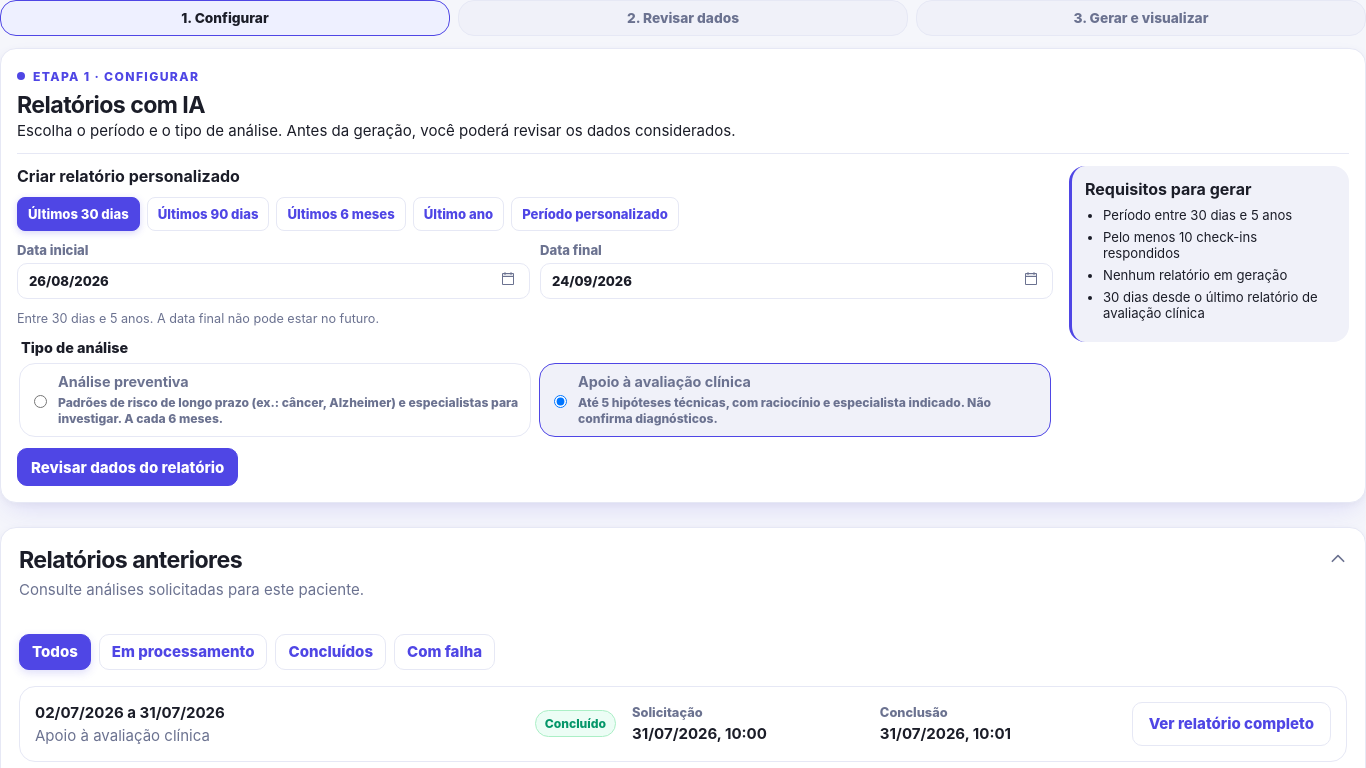
Test: jornada completa de relatórios com IA › abre o relatório completo em modal sem cabeçalho redundante ou resposta bruta
Click the button "Ver relatório completo": click(1231, 724) [1132,702,1331,746]
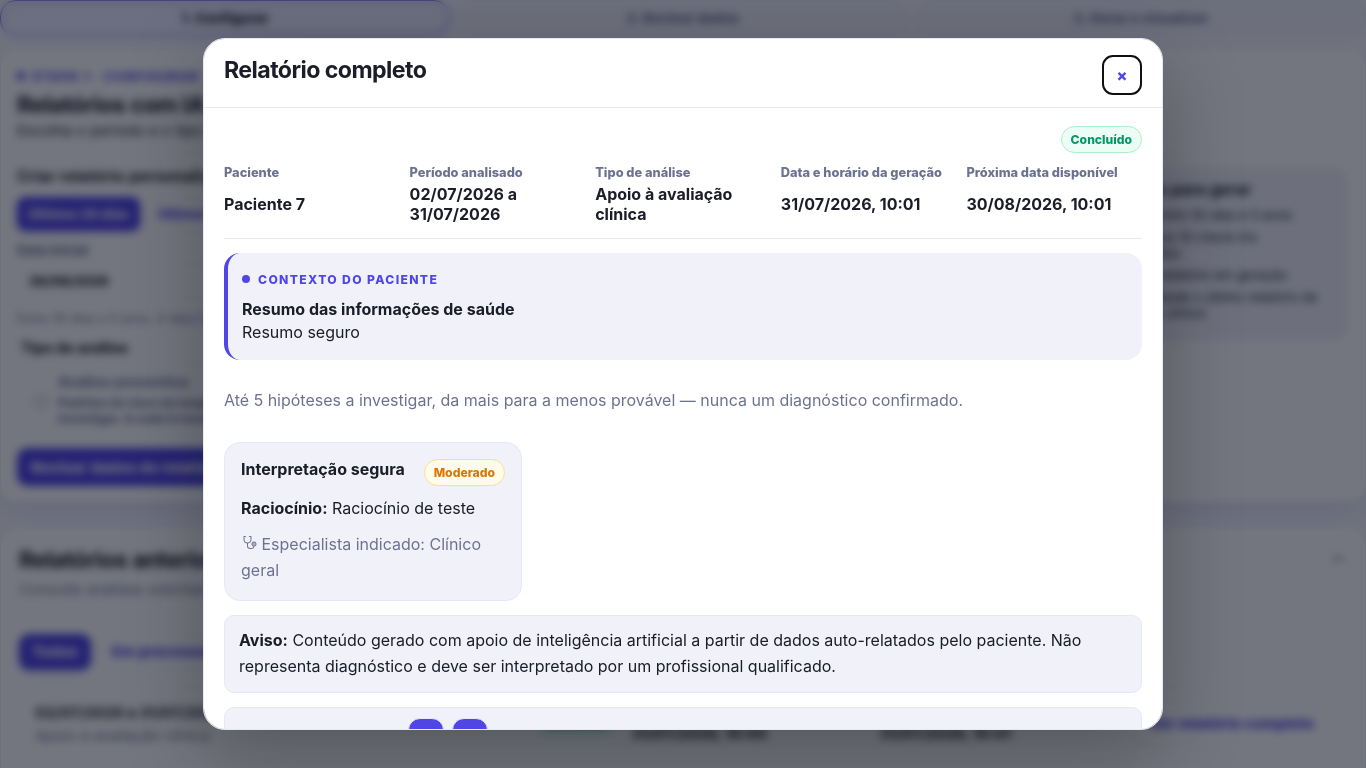
Expected: the dialog "Relatório completo" does not show "Gerar e visualizar"
Result: the dialog "Relatório completo" is shown
Result: the heading "Interpretação segura" is shown at [241,459,405,479]
